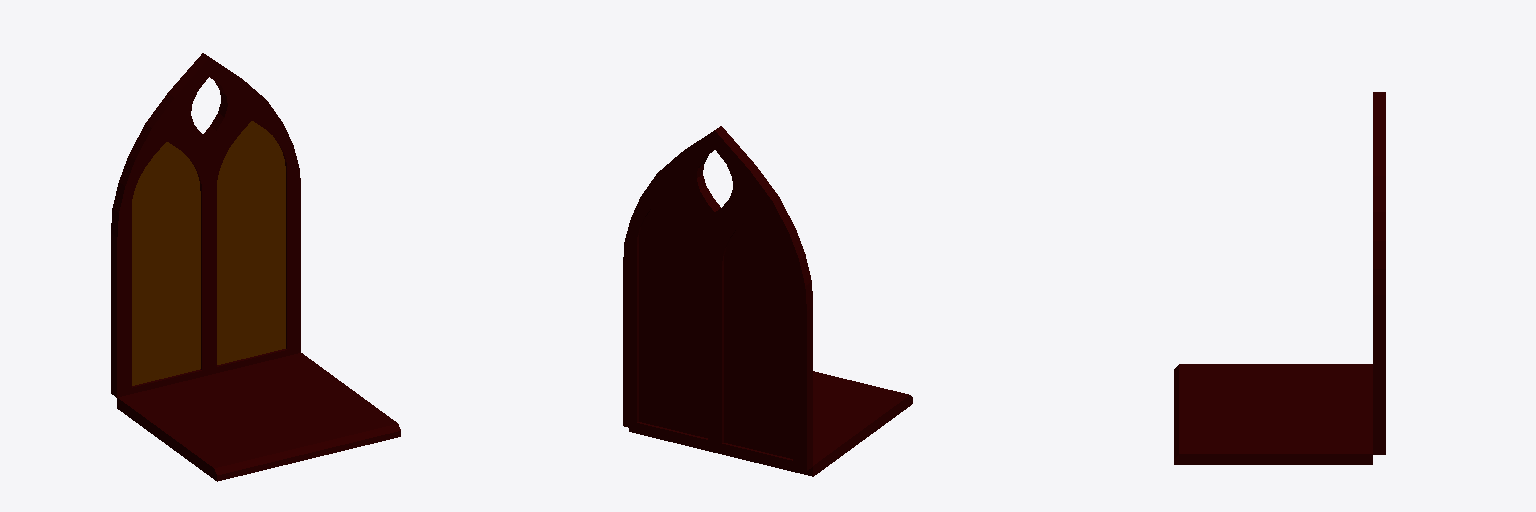
Rendered from gothic_chair_middle.obj.
3 views of the same model, side by side, from view 1: azimuth 30°, elevation 25°; view 2: azimuth 150°, elevation 25°; view 3: azimuth 270°, elevation 25° (orthographic).
Visible parts, largest first — view 1: gothic_chair_middle; view 2: gothic_chair_middle; view 3: gothic_chair_middle.
Boxes of the visible parts, <box> form: gothic_chair_middle: <box>111,53,400,481</box>; gothic_chair_middle: <box>623,126,912,476</box>; gothic_chair_middle: <box>1174,92,1385,464</box>.
Size of the model in its own units: 100 by 171 by 99.94.